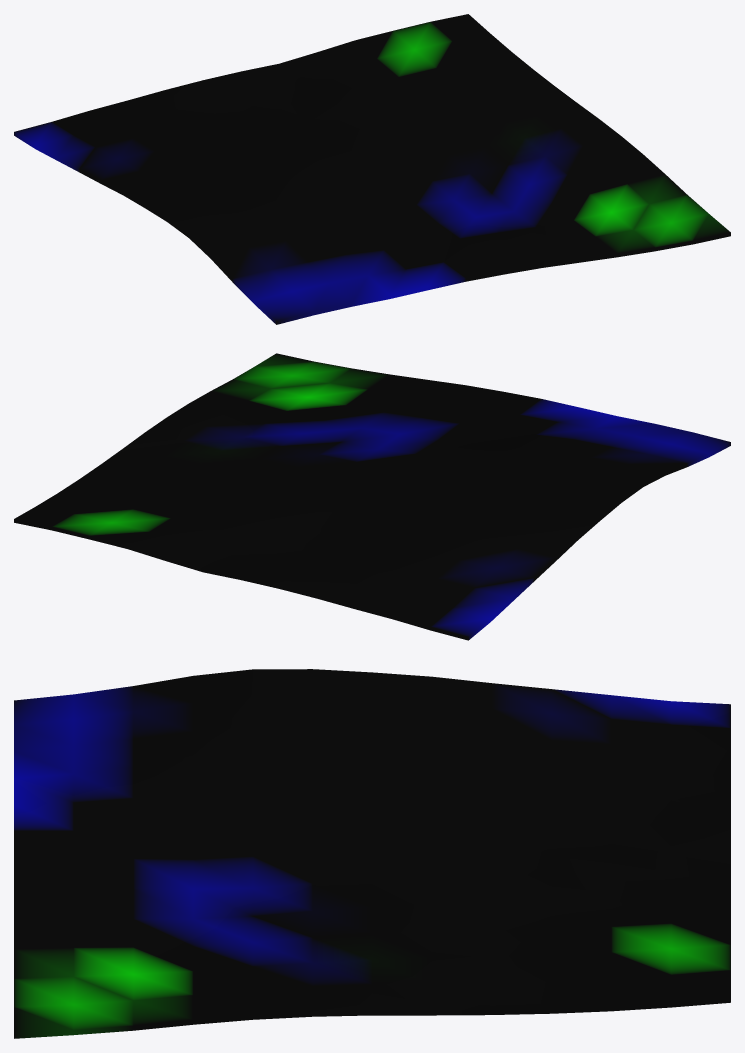
Rendered from coast_18_1.glb.
3 views of the same model, one above another, from view 1: azimuth 30°, elevation 25°; view 2: azimuth 150°, elevation 25°; view 3: azimuth 270°, elevation 25° (orthographic). The views are drawn at different scales.
Visible parts, largest first — view 1: terrain; view 2: terrain; view 3: terrain.
Part boxes in pixels (x1,y1,x2,y2): terrain: (14, 14, 730, 324); terrain: (14, 353, 730, 640); terrain: (14, 669, 730, 1038).
Size of the model in its own units: 192 by 19.71 by 192.
